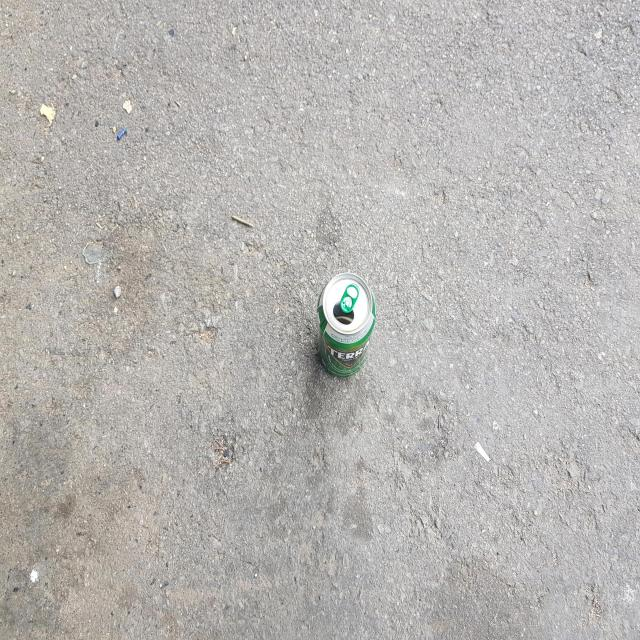can: (317, 272, 376, 377)
